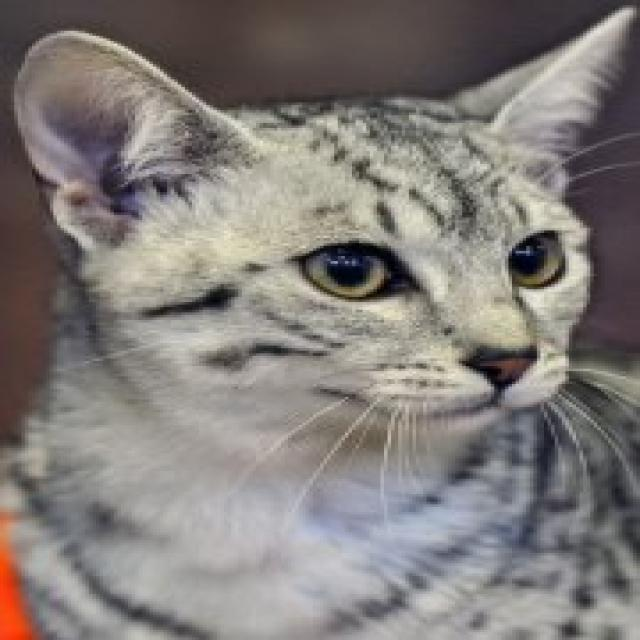Egyptian_Mau: (11, 0, 633, 440)
